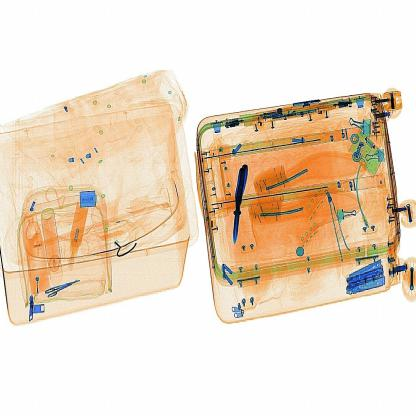gun: (222, 144, 253, 249)
